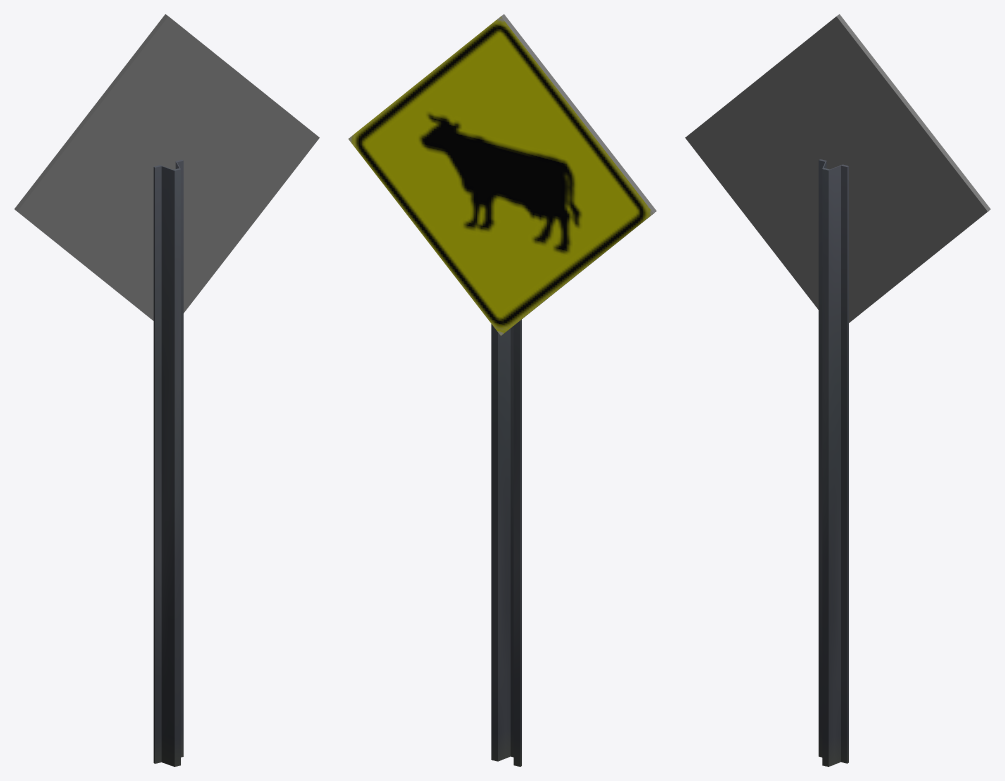
The model's file is warning_bull.obj.
3 renders of one model, left to right at view 1: azimuth 30°, elevation 25°; view 2: azimuth 150°, elevation 25°; view 3: azimuth 330°, elevation 25°, orthographic.
Parts seen in each view (by area): view 1: Mesh; view 2: Mesh; view 3: Mesh.
Part boxes in pixels (x1=…): Mesh: x1=14, y1=14, x2=319, y2=766; Mesh: x1=348, y1=14, x2=656, y2=766; Mesh: x1=685, y1=14, x2=990, y2=766.
Size of the model in its own units: 0.2382 by 0.5585 by 0.0181.
